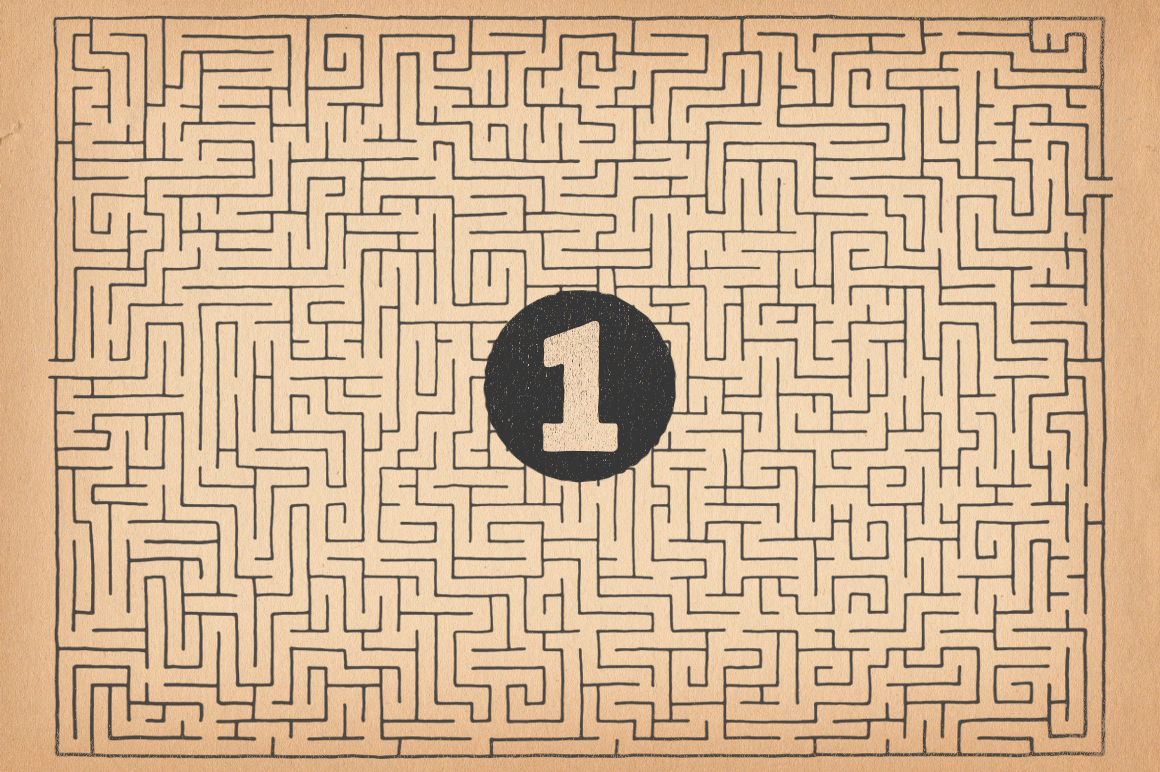maze: (50, 16, 1109, 755)
